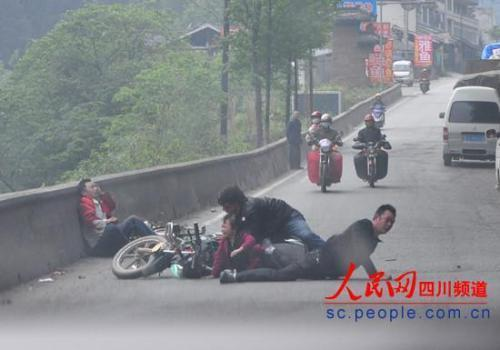Fall-Detected: (214, 172, 329, 259)
